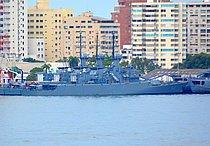MIL_Ship: (0, 48, 184, 96)
